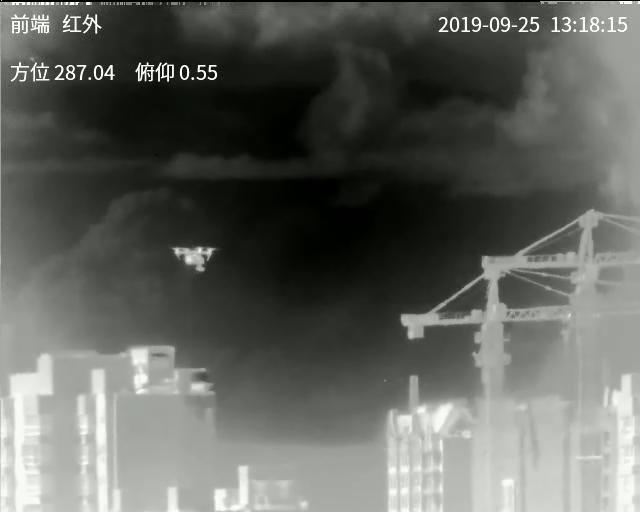uav: (172, 245, 217, 272)
